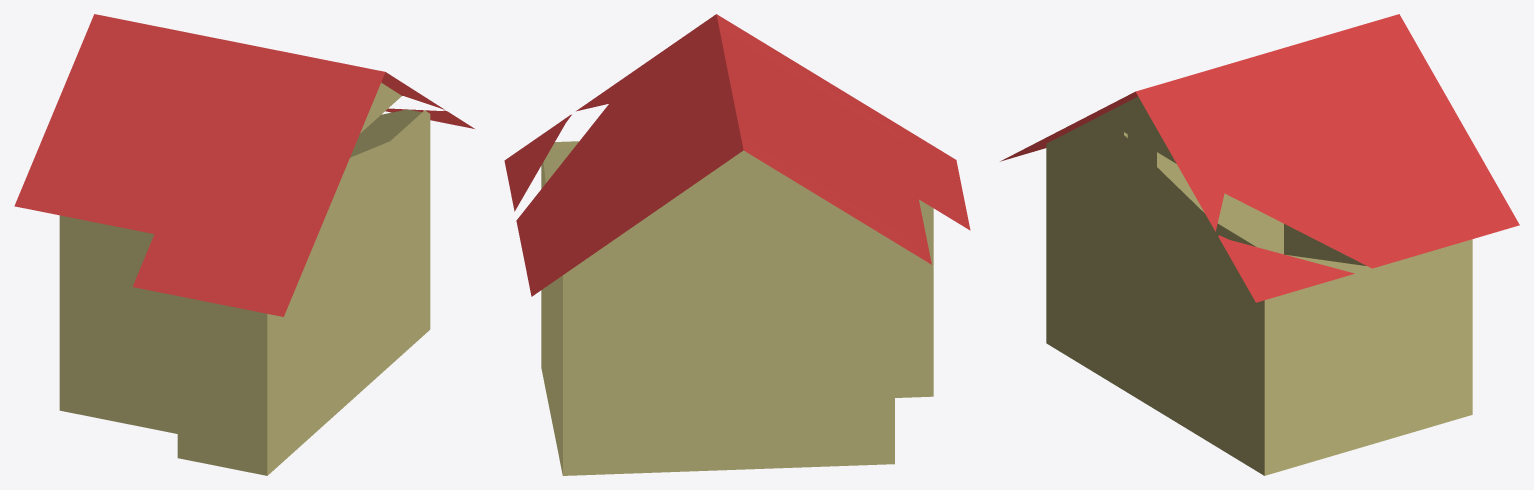
3 views of the same model, side by side, from view 1: azimuth 30°, elevation 25°; view 2: azimuth 150°, elevation 25°; view 3: azimuth 270°, elevation 25° (orthographic).
Bounding box in the file's own units: 15.03 × 15.33 × 10.75.
